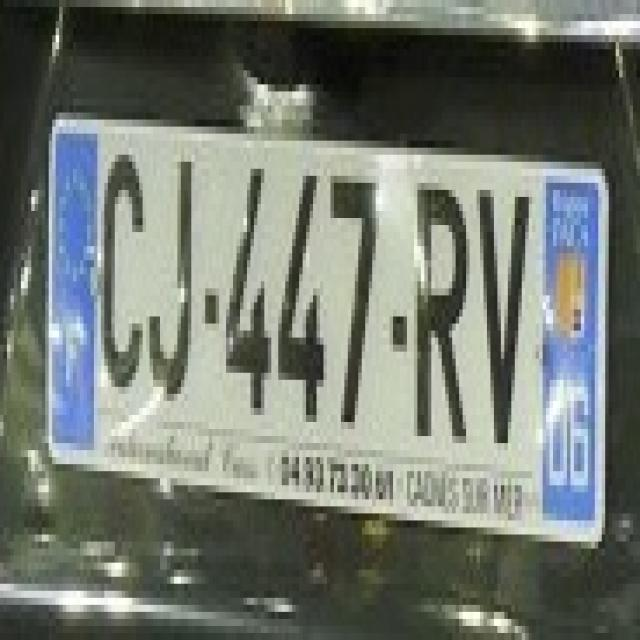EU: (37, 118, 605, 543)
France: (47, 132, 101, 453)
